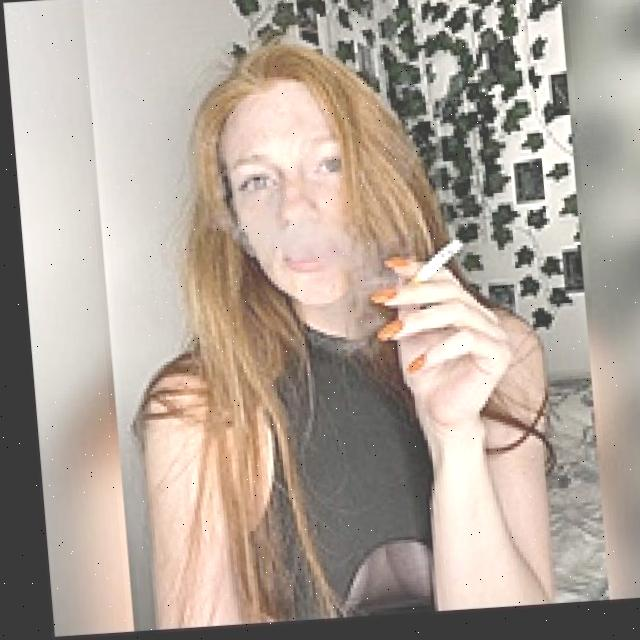cigarette: (395, 247, 459, 295)
